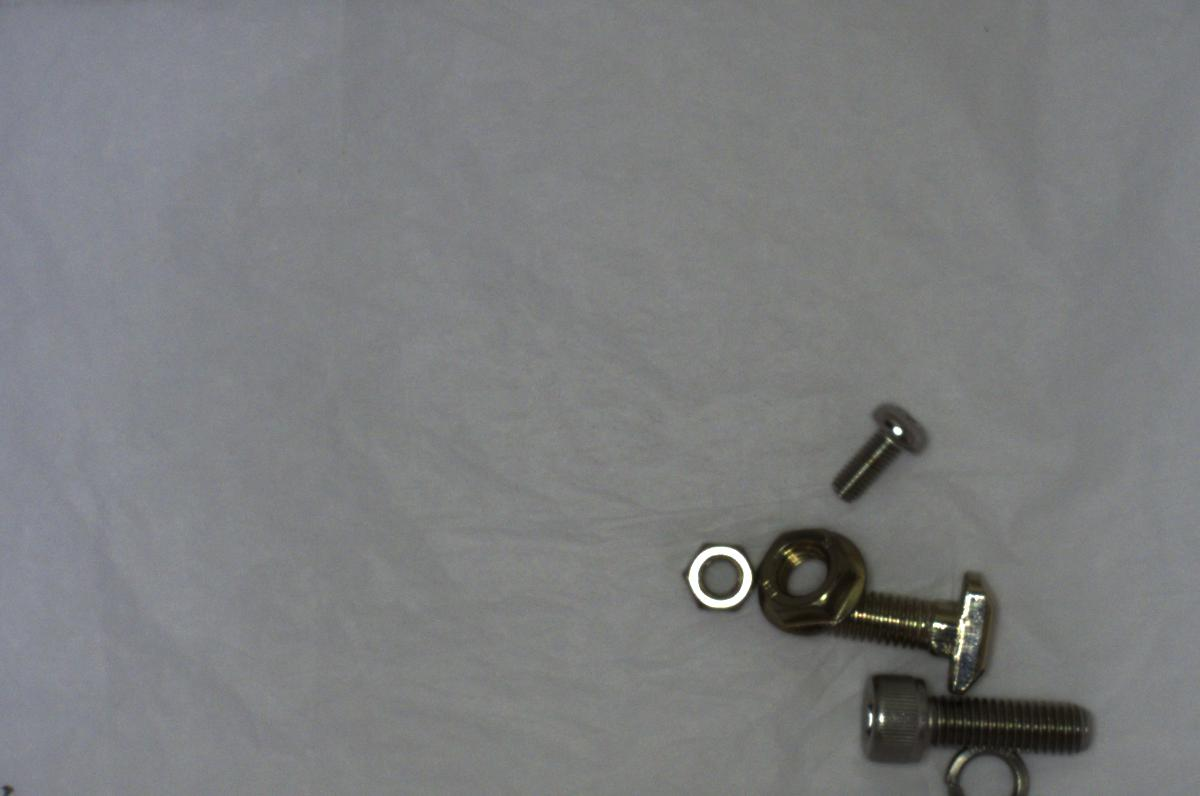Flange nut: (750, 524, 874, 628)
Hexagon nut: (669, 524, 762, 621)
Hexagon screw: (850, 660, 1098, 765)
Round head screw: (816, 392, 938, 512)
Spring washer: (934, 740, 1035, 795)
T-shaped screw: (825, 550, 998, 695)
